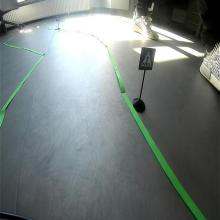crosswalk: (139, 46, 156, 71)
